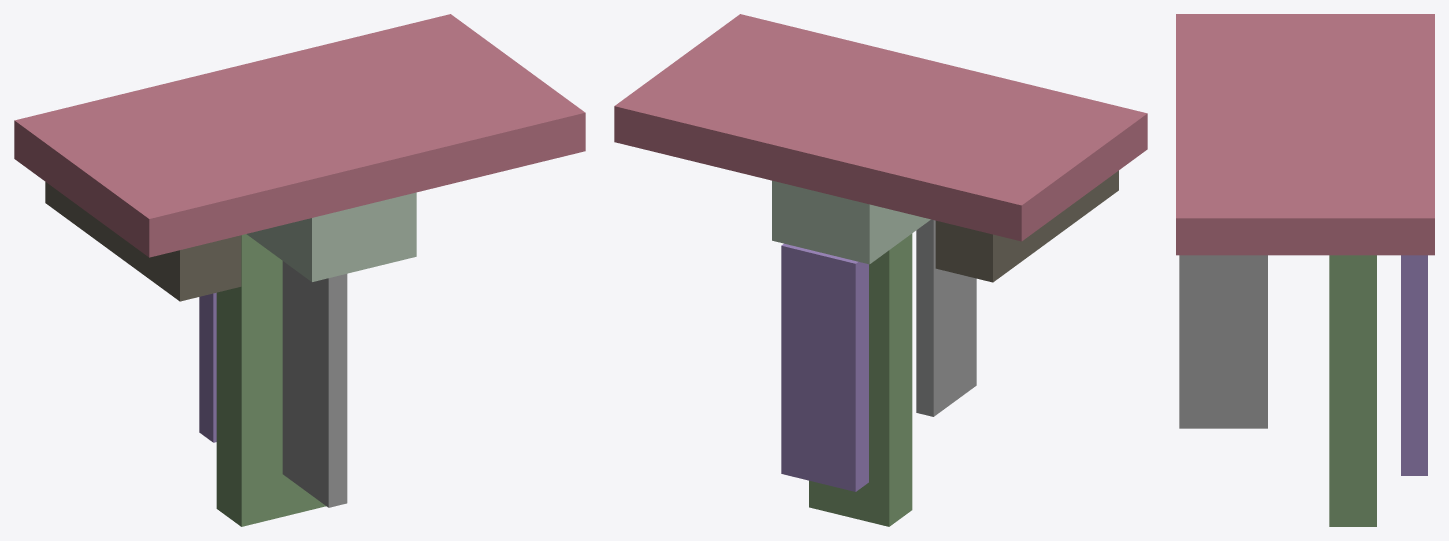
The picture shows the model from 3 angles, left to right: view 1: azimuth 30°, elevation 25°; view 2: azimuth 150°, elevation 25°; view 3: azimuth 270°, elevation 25°; orthographic projection. The views are drawn at different scales.
Parts seen in each view (by area): view 1: world; view 2: world; view 3: world.
Part boxes in pixels (left/top/right/bottom): world: left=14, top=14, right=585, bottom=526; world: left=614, top=14, right=1147, bottom=526; world: left=1176, top=14, right=1434, bottom=526.
Size of the model in its own units: 7.1 by 6.35 by 3.8.
